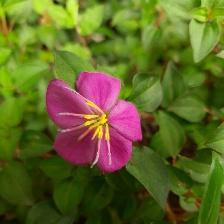malabar melastome: (46, 72, 146, 176)
